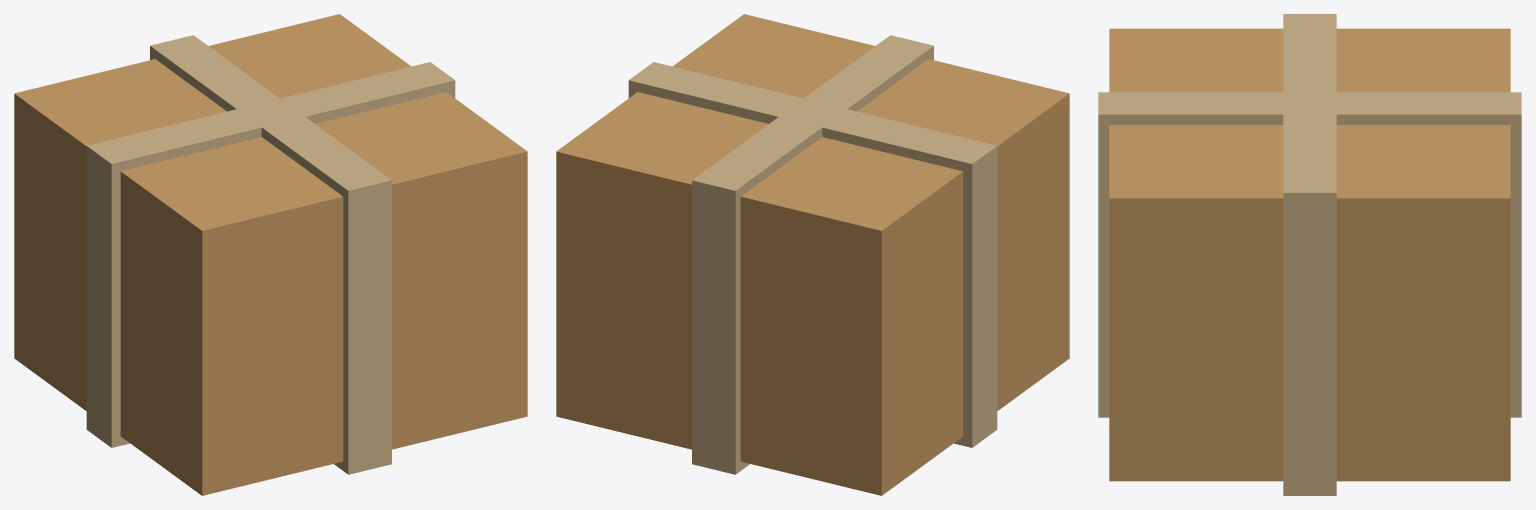
The model's file is parcel.glb.
The picture shows the model from 3 angles, left to right: view 1: azimuth 30°, elevation 25°; view 2: azimuth 150°, elevation 25°; view 3: azimuth 270°, elevation 25°; orthographic projection. The views are drawn at different scales.
Visible parts, largest first — view 1: Parcel; view 2: Parcel; view 3: Parcel.
Part boxes in pixels (x1,y1,x2,y2): Parcel: (14, 14, 527, 495); Parcel: (556, 14, 1069, 495); Parcel: (1098, 14, 1521, 495).
Size of the model in its own units: 0.95 by 0.75 by 0.95.
